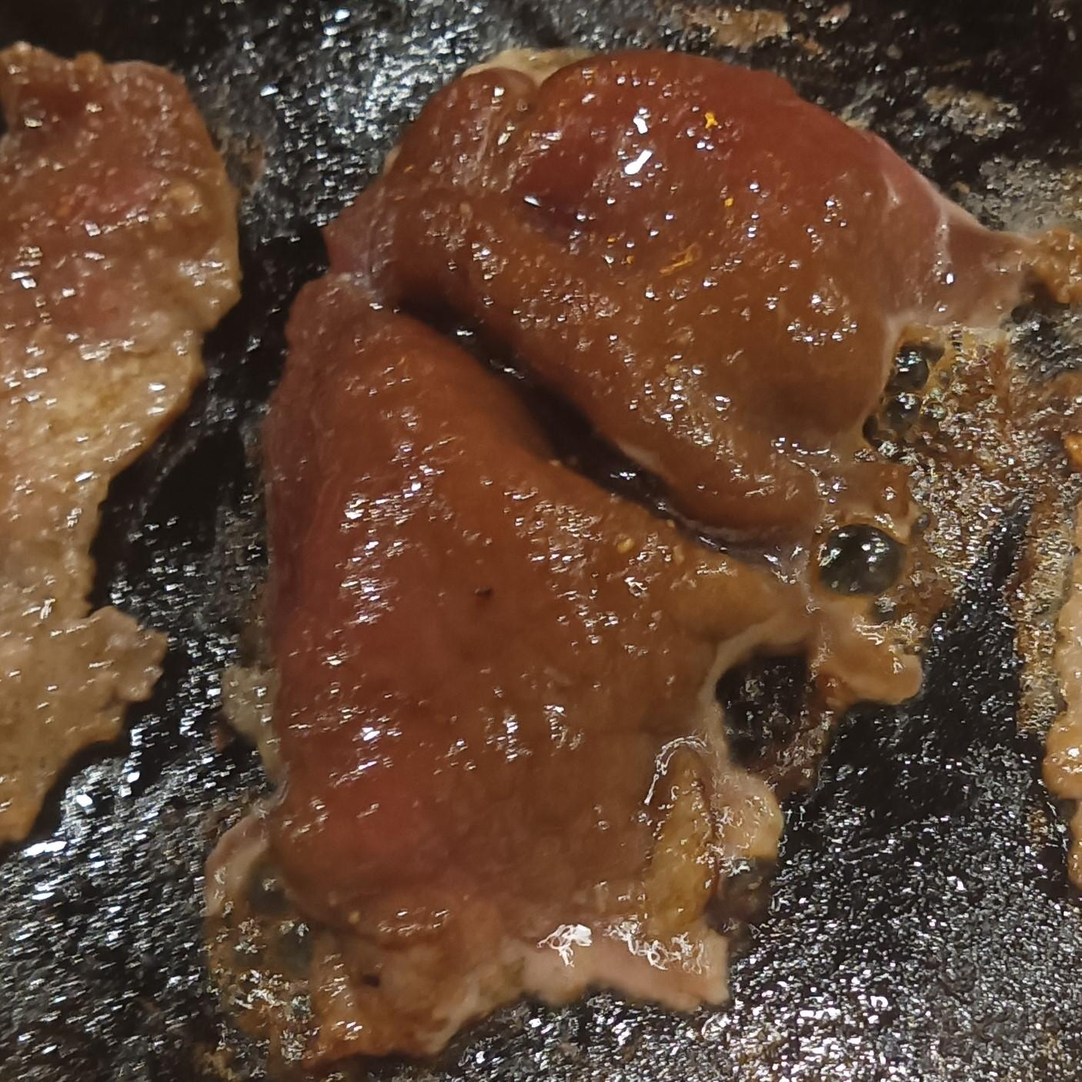Undercooked: (203, 48, 1081, 1079)
Well-Cooked: (0, 45, 243, 867)
